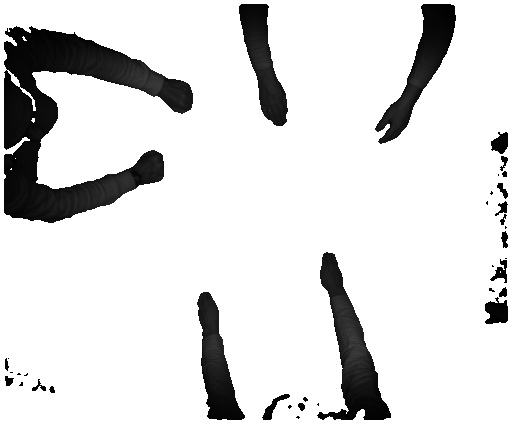fist: (165, 77, 199, 119), (140, 146, 167, 191)
hand: (368, 100, 414, 143), (256, 82, 287, 127), (320, 248, 351, 291), (192, 288, 223, 329)
